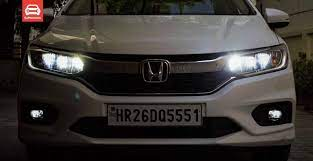headlight: (26, 43, 289, 76)
